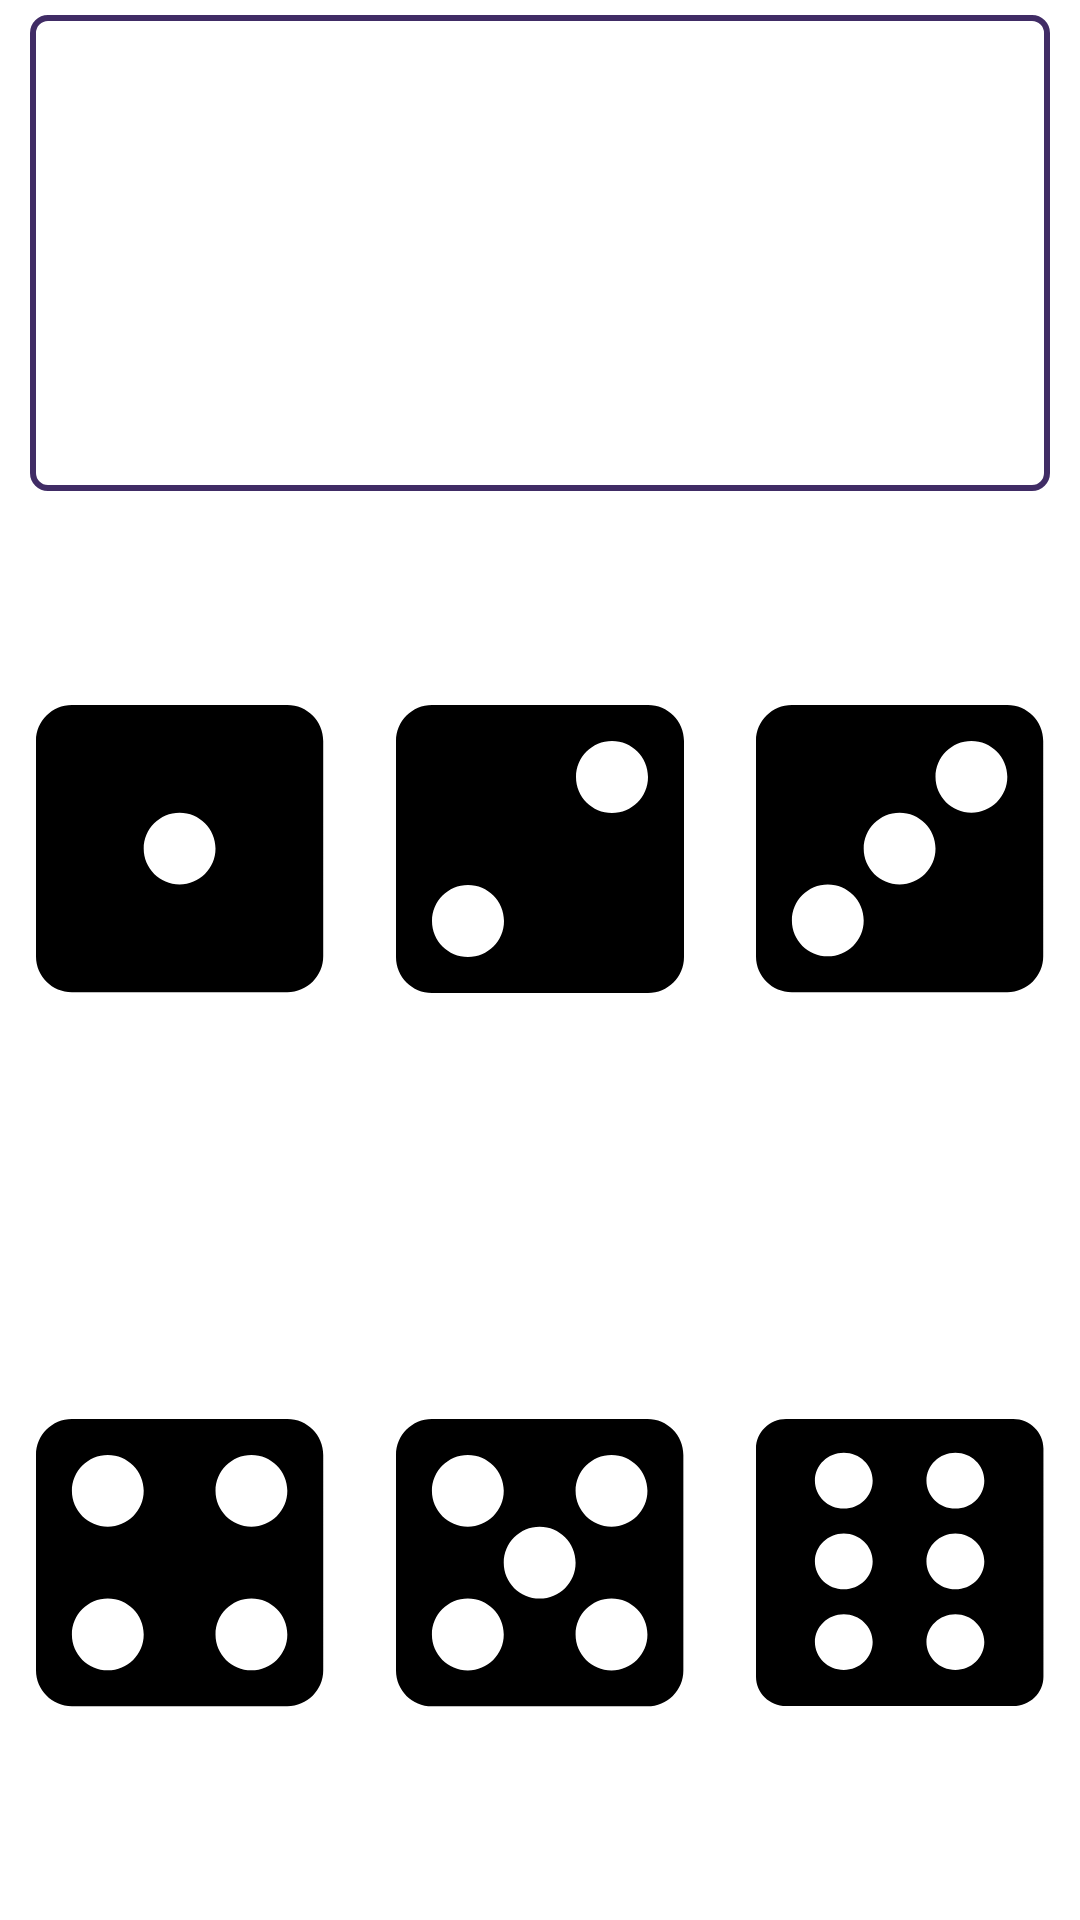

Screen size 1080x1920. Icon name, then its box in pixels as (x1, y1, x2, y2):
dice: (36, 705, 324, 993), (396, 705, 684, 993), (756, 705, 1044, 993), (36, 1419, 324, 1707), (396, 1419, 684, 1707), (756, 1419, 1044, 1706)
